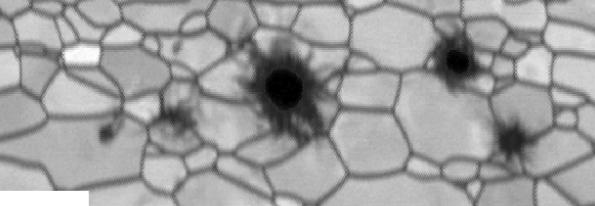good_void: (236, 35, 339, 143), (425, 29, 493, 96), (486, 114, 539, 174), (160, 98, 199, 138), (167, 36, 193, 60), (97, 123, 122, 145)
